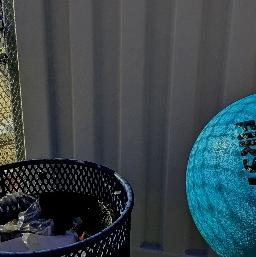algae: (184, 86, 256, 257)
